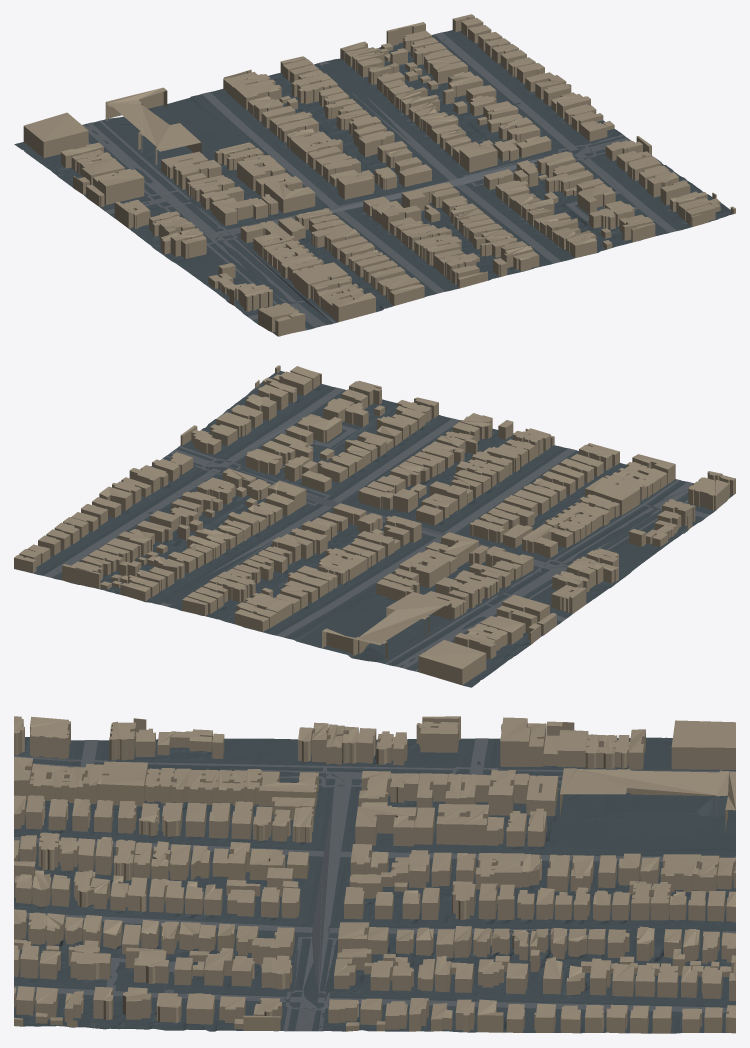
The model's file is epsg26910-1426-10890.lod0.glb.
3 views of the same model, one above another, from view 1: azimuth 30°, elevation 25°; view 2: azimuth 150°, elevation 25°; view 3: azimuth 270°, elevation 25° (orthographic). The views are drawn at different scales.
Visible parts, largest first — view 1: epsg26910-1426-10890-lod0; view 2: epsg26910-1426-10890-lod0; view 3: epsg26910-1426-10890-lod0.
Part boxes in pixels (<box>): epsg26910-1426-10890-lod0: <box>14,14,735,336</box>; epsg26910-1426-10890-lod0: <box>14,365,735,687</box>; epsg26910-1426-10890-lod0: <box>14,716,735,1033</box>.
Size of the model in its own units: 384 by 20.48 by 384.
